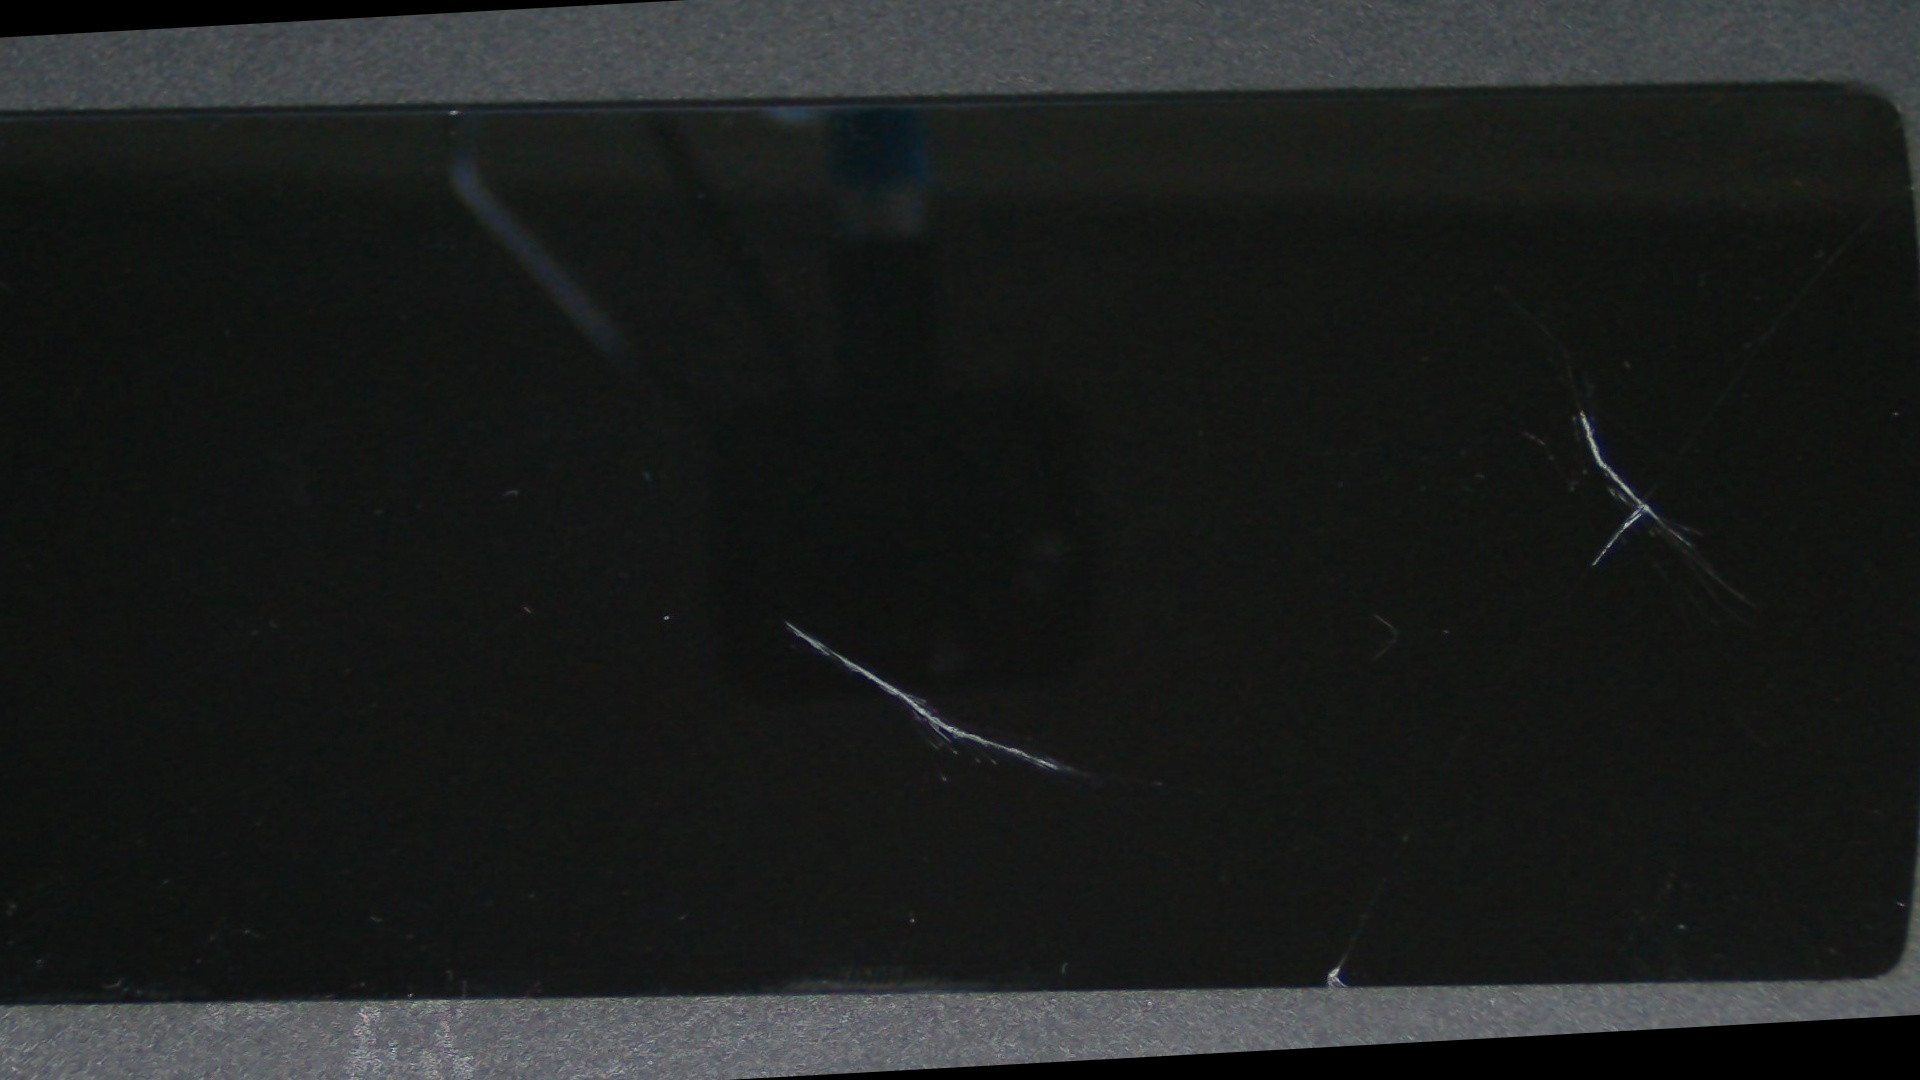oil: (255, 281, 1313, 961), (653, 157, 1920, 690)
